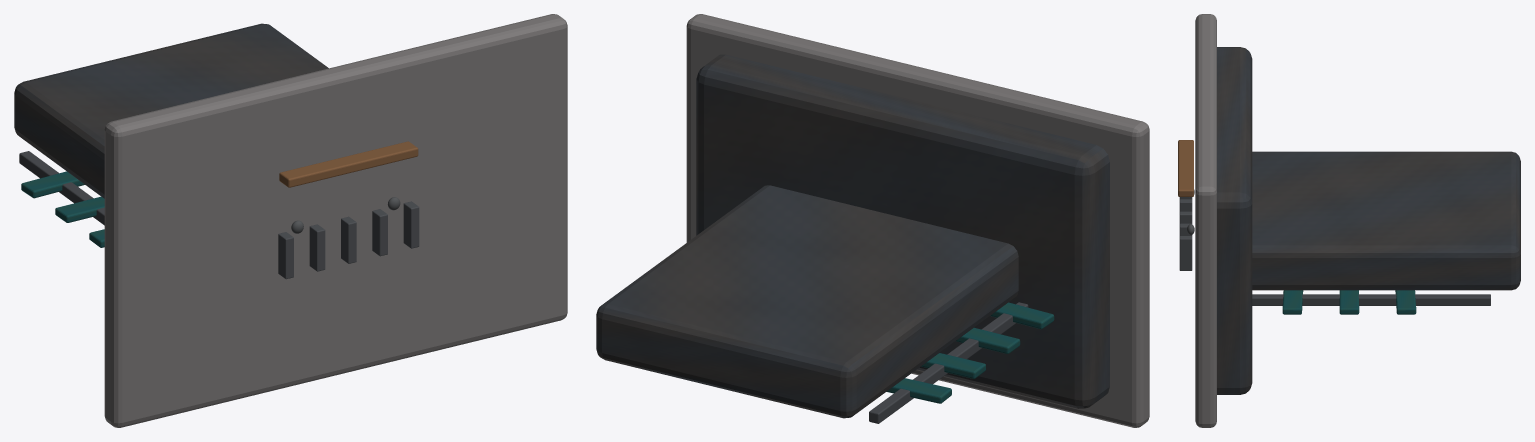
Rendered from memorial.glb.
The picture shows the model from 3 angles, left to right: view 1: azimuth 30°, elevation 25°; view 2: azimuth 150°, elevation 25°; view 3: azimuth 270°, elevation 25°; orthographic projection. The views are drawn at different scales.
Parts seen in each view (by area): view 1: V7_Memorial_Platform, Memorial_Slab, memorial_detail_trim, V7_Memorial_Border, Memorial_Pane_06, Memorial_Pane_04, memorial_carved_mark.001, memorial_carved_mark.004, memorial_carved_mark, memorial_carved_mark.002, memorial_carved_mark.003; view 2: Memorial_Base, Memorial_Slab, V7_Memorial_Platform, V7_Memorial_Border, Memorial_Pane_02, Memorial_Pane_04, Memorial_Pane_06, Memorial_Pane_00; view 3: Memorial_Slab, Memorial_Base, V7_Memorial_Platform, V7_Memorial_Border.001, memorial_detail_trim, Memorial_Pane_01, Memorial_Pane_05, Memorial_Pane_03, memorial_carved_mark.004.
Boxes of the visible parts, x1=… form: V7_Memorial_Platform: x1=104, y1=14, x2=567, y2=427; Memorial_Slab: x1=14, y1=23, x2=328, y2=198; memorial_detail_trim: x1=279, y1=141, x2=418, y2=187; V7_Memorial_Border: x1=19, y1=151, x2=104, y2=225; Memorial_Pane_06: x1=21, y1=171, x2=84, y2=198; Memorial_Pane_04: x1=55, y1=196, x2=104, y2=222; memorial_carved_mark.001: x1=309, y1=224, x2=325, y2=271; memorial_carved_mark.004: x1=403, y1=201, x2=419, y2=248; memorial_carved_mark: x1=278, y1=232, x2=293, y2=279; memorial_carved_mark.002: x1=341, y1=216, x2=356, y2=263; memorial_carved_mark.003: x1=372, y1=209, x2=387, y2=256; Memorial_Base: x1=696, y1=54, x2=1109, y2=408; Memorial_Slab: x1=596, y1=185, x2=1018, y2=418; V7_Memorial_Platform: x1=686, y1=14, x2=1149, y2=427; V7_Memorial_Border: x1=869, y1=302, x2=1028, y2=423; Memorial_Pane_02: x1=956, y1=327, x2=1020, y2=353; Memorial_Pane_04: x1=921, y1=353, x2=985, y2=378; Memorial_Pane_06: x1=886, y1=378, x2=951, y2=403; Memorial_Pane_00: x1=990, y1=302, x2=1054, y2=329; Memorial_Slab: x1=1252, y1=151, x2=1520, y2=290; Memorial_Base: x1=1217, y1=47, x2=1252, y2=394; V7_Memorial_Platform: x1=1195, y1=14, x2=1216, y2=427; V7_Memorial_Border.001: x1=1252, y1=294, x2=1490, y2=305; memorial_detail_trim: x1=1178, y1=140, x2=1193, y2=196; Memorial_Pane_01: x1=1282, y1=290, x2=1303, y2=314; Memorial_Pane_05: x1=1395, y1=290, x2=1416, y2=314; Memorial_Pane_03: x1=1339, y1=290, x2=1359, y2=314; memorial_carved_mark.004: x1=1179, y1=236, x2=1192, y2=270.
Size of the model in its own units: 3.1 by 1.96 by 2.53.
Materials: 8 (2 with a texture image).
